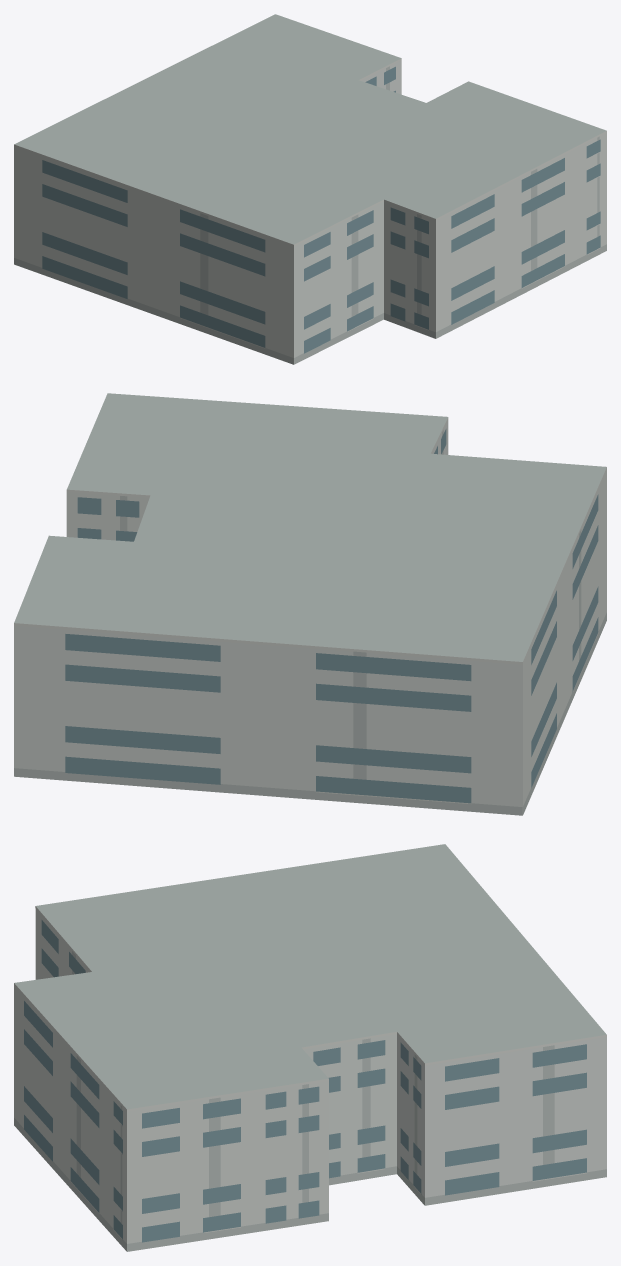
Rendered from survey-upis-32842617.glb.
3 views of the same model, one above another, from view 1: azimuth 30°, elevation 25°; view 2: azimuth 150°, elevation 25°; view 3: azimuth 270°, elevation 25° (orthographic). The views are drawn at different scales.
Parts seen in each view (by area): view 1: survey-upis-32842617.tmp; view 2: survey-upis-32842617.tmp; view 3: survey-upis-32842617.tmp.
Boxes of the visible parts, x1,y1,x2,y2 form: survey-upis-32842617.tmp: (14, 14, 606, 364); survey-upis-32842617.tmp: (14, 393, 606, 815); survey-upis-32842617.tmp: (14, 844, 606, 1251).
Bounding box in the file's own units: 60.98 × 15.25 × 57.55.
